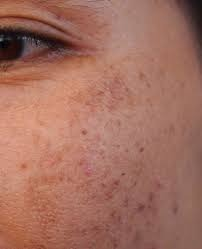Melasma: (110, 0, 164, 86)
